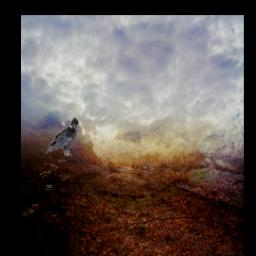Crow: (45, 117, 78, 157)
